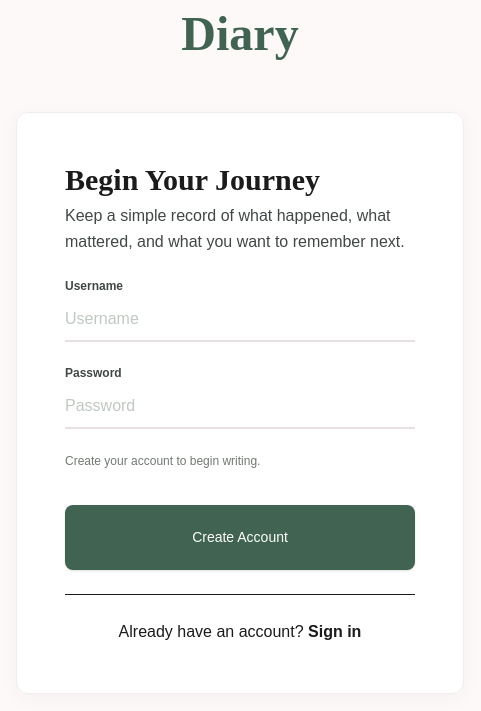
Scenario: SignupPage › shows duplicate username feedback from the signup API
This screenshot has width=481, height=711.
Type "person_test" into the field labelled "Username".
click(240, 320); type("person_test")  # box [65,298,415,342]
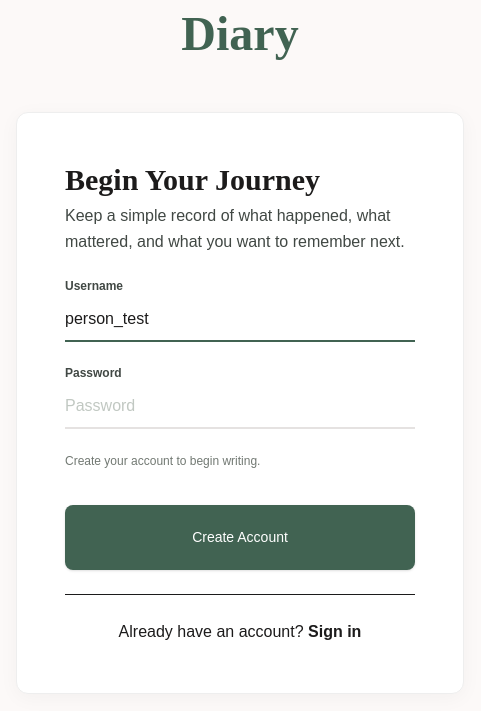
Type "password123" into the password field labelled "Password".
click(240, 406); type("password123")  # box [65,384,415,428]
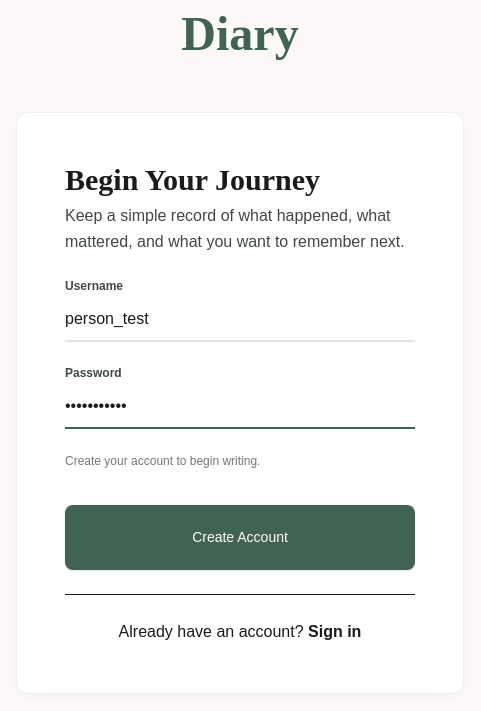
Click the button "Create Account".
click(240, 537)  # box [65,504,415,570]
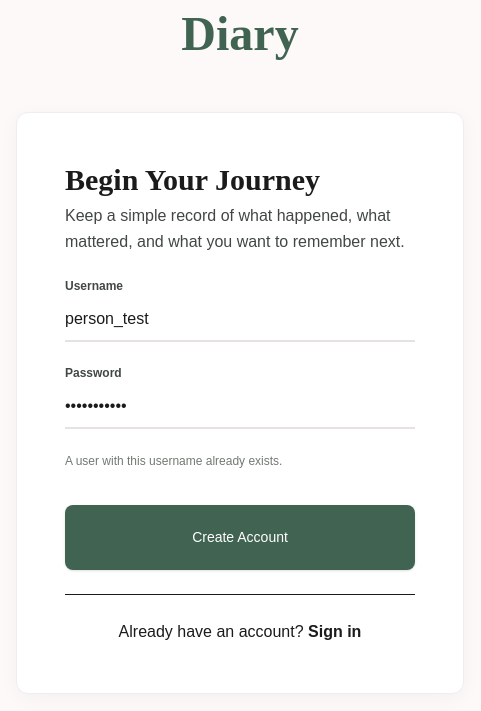
Expected: the text "A user with this username already exists." is shown, [65,454,282,468]
